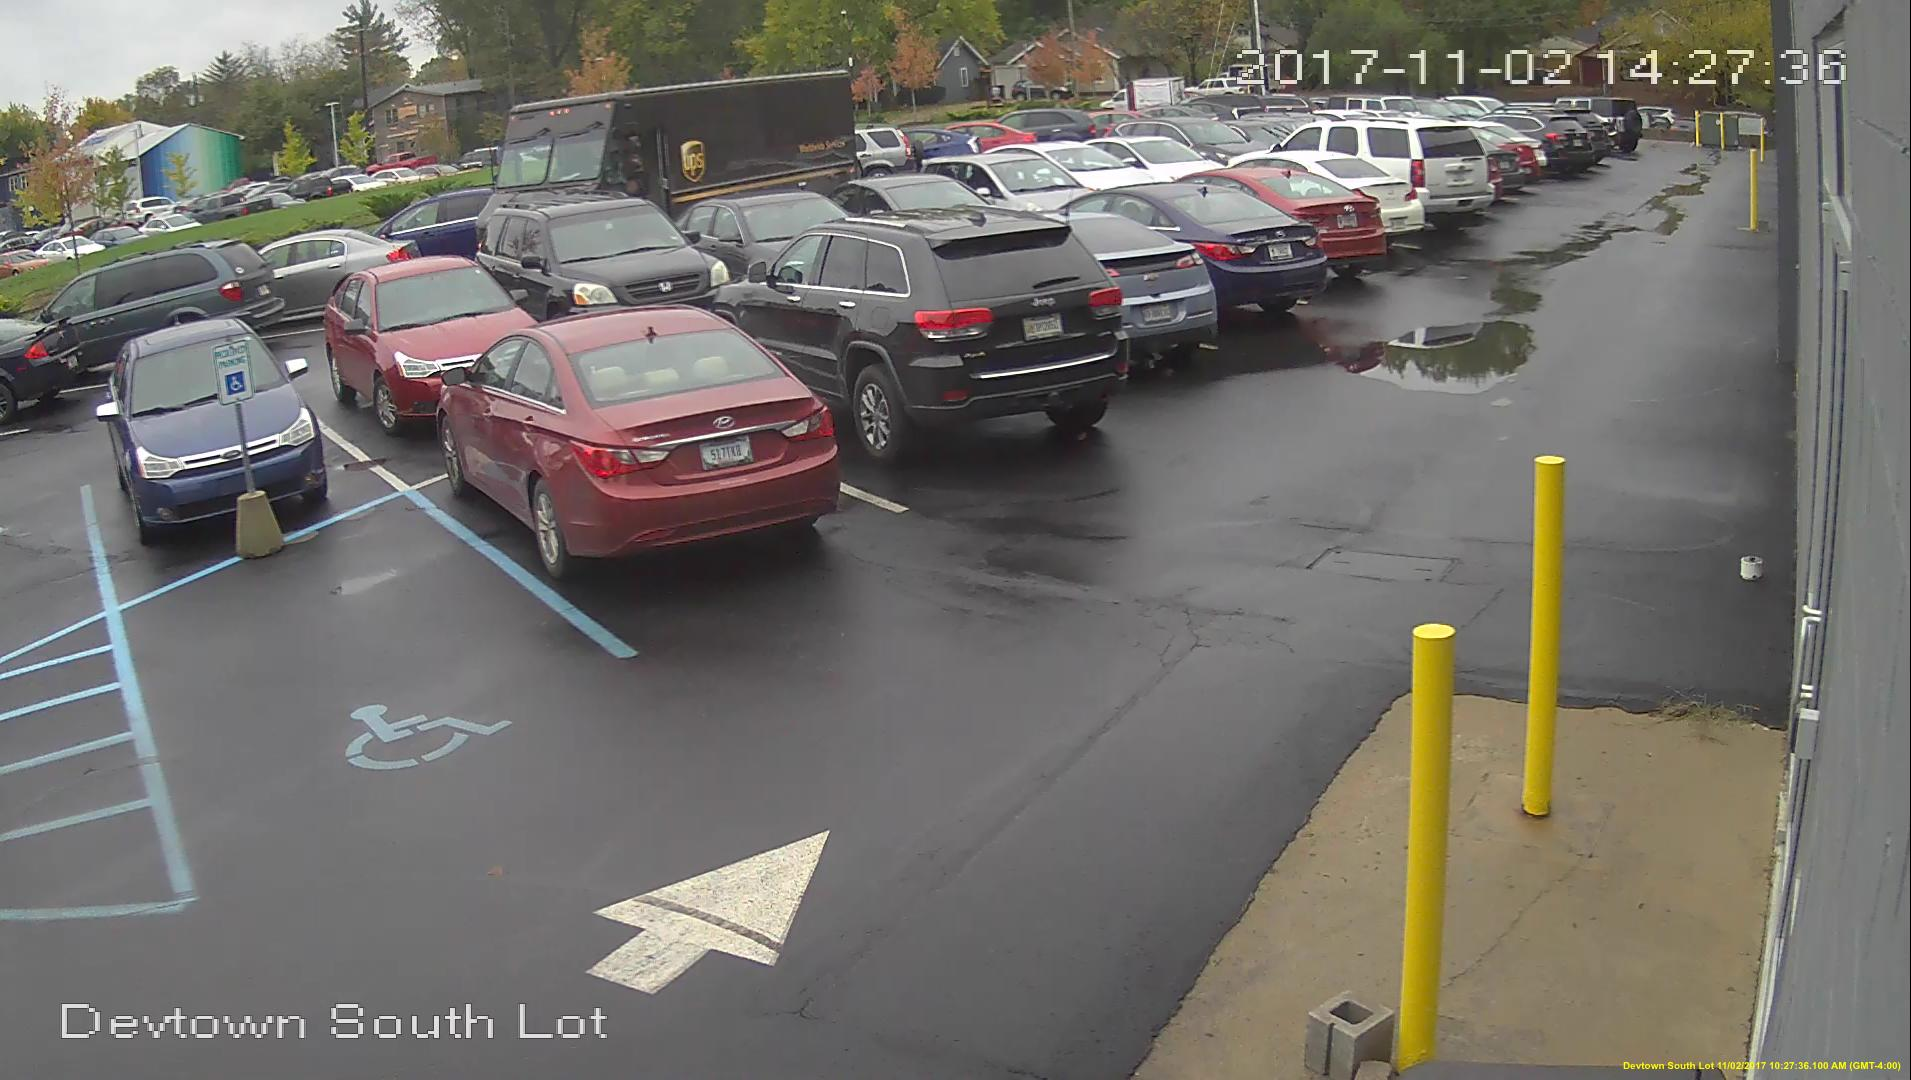ups_truck: (499, 87, 861, 213)
